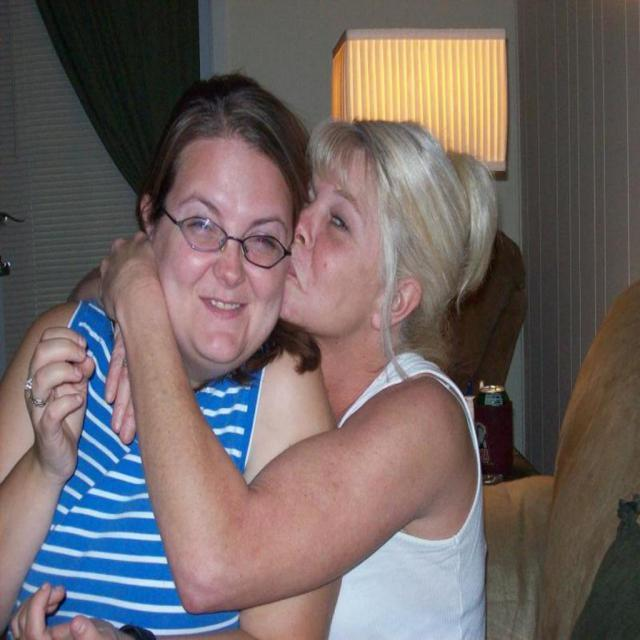closed-mouth: (200, 297, 248, 321)
